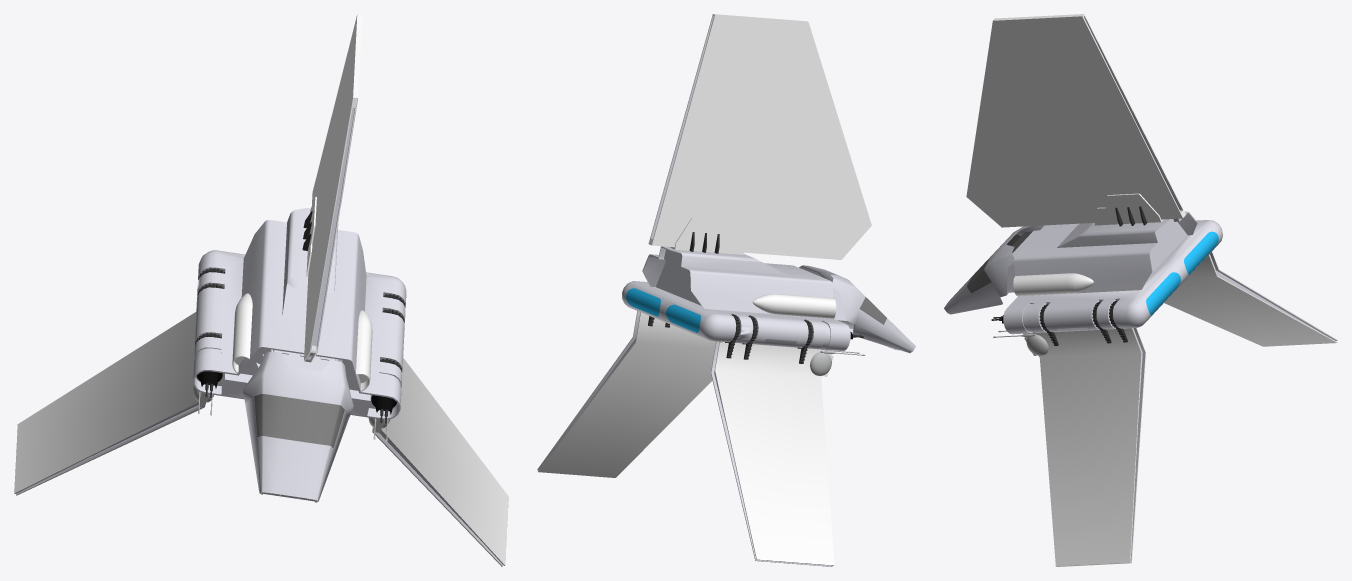
File: lambda_shuttle.obj
3 renders of one model, left to right at view 1: azimuth 30°, elevation 25°; view 2: azimuth 150°, elevation 25°; view 3: azimuth 270°, elevation 25°, orthographic. The views are drawn at different scales.
Parts seen in each view (by area): view 1: BLUE_GLASS3, SHUTTLE_WING1, SHUTTLE_WING0, BLUE_GLASS4, SHUTTLE_STABILZR, BLUE_GLASS5, SH_TOP, SHUTTLE_INTAKE, SHUTTLE_BROWN2, SHUTTLE_BROWN1, SHUTTLE_BROWN0, SH_NECK (+1 smaller); view 2: SHUTTLE_STABILZR, SHUTTLE_WING1, SHUTTLE_WING0, BLUE_GLASS3, BLUE_GLASS4, SH_TOP, SHUTTLE_INTAKE, SH_ENGINE, SHUTTLE_BROWN1, SH_Hinge_r, SHUTTLE_BROWN0, SHUTTLE_BROWN2 (+1 smaller); view 3: SHUTTLE_STABILZR, SHUTTLE_WING0, BLUE_GLASS3, SHUTTLE_WING1, BLUE_GLASS4, SH_TOP, SHUTTLE_INTAKE, SH_ENGINE, SHUTTLE_BROWN0, SH_Hinge_L, SHUTTLE_BROWN1, SHUTTLE_BROWN2.
Boxes of the visible parts, x1,y1,x2,y2 form: BLUE_GLASS3: (193,220,406,419); SHUTTLE_WING1: (14,312,208,495); SHUTTLE_WING0: (372,357,508,566); BLUE_GLASS4: (243,351,353,502); SHUTTLE_STABILZR: (304,14,362,362); BLUE_GLASS5: (254,394,344,447); SH_TOP: (282,208,338,324); SHUTTLE_INTAKE: (232,293,372,391); SHUTTLE_BROWN2: (306,107,355,361); SHUTTLE_BROWN1: (14,403,202,494); SHUTTLE_BROWN0: (373,430,504,566); SH_NECK: (252,349,342,373); SHUTTLE_STABILZR: (648,14,871,259); SHUTTLE_WING1: (711,341,834,566); SHUTTLE_WING0: (537,311,715,477); BLUE_GLASS3: (622,254,850,351); BLUE_GLASS4: (799,265,915,353); SH_TOP: (658,246,786,274); SHUTTLE_INTAKE: (752,294,836,318); SH_ENGINE: (626,288,700,332); SHUTTLE_BROWN1: (711,341,833,566); SH_Hinge_r: (725,314,812,363); SHUTTLE_BROWN0: (538,311,640,470); SHUTTLE_BROWN2: (651,16,713,238); SHUTTLE_STABILZR: (966,14,1185,227); SHUTTLE_WING0: (1023,328,1145,566); BLUE_GLASS3: (1003,211,1222,334); SHUTTLE_WING1: (1164,251,1337,346); BLUE_GLASS4: (944,225,1044,314); SH_TOP: (1057,218,1179,247); SHUTTLE_INTAKE: (1013,273,1093,296); SH_ENGINE: (1146,231,1218,315); SHUTTLE_BROWN0: (1032,328,1145,566); SH_Hinge_L: (1039,301,1127,345); SHUTTLE_BROWN1: (1209,252,1337,340); SHUTTLE_BROWN2: (1083,16,1182,211).
Bounding box in the file's own units: 1066 × 1398 × 1002.
Materials: 42 (42 with a texture image).
